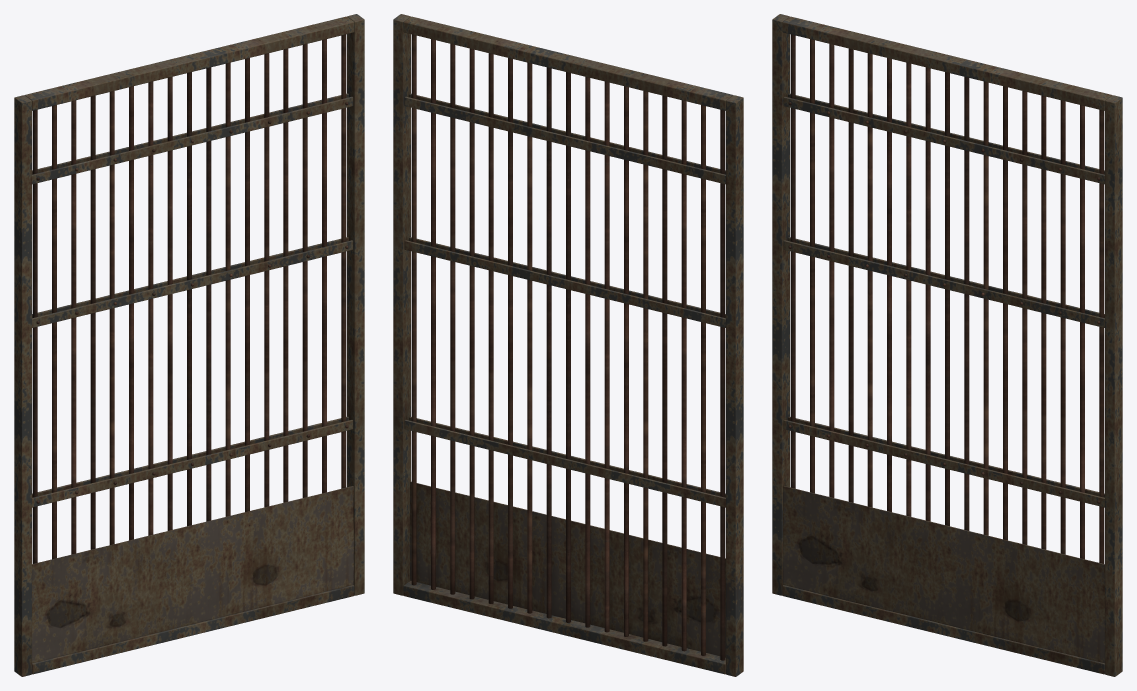
File: Gate_Grille.fbx
3 renders of one model, left to right at view 1: azimuth 30°, elevation 25°; view 2: azimuth 150°, elevation 25°; view 3: azimuth 330°, elevation 25°, orthographic.
Parts seen in each view (by area): view 1: Gate_Grille_Mesh; view 2: Gate_Grille_Mesh; view 3: Gate_Grille_Mesh.
Boxes of the visible parts, <box> form: Gate_Grille_Mesh: <box>14,14,364,676</box>; Gate_Grille_Mesh: <box>393,14,743,676</box>; Gate_Grille_Mesh: <box>772,14,1122,676</box>.
Size of the model in its own units: 2 by 3.2 by 0.08.
